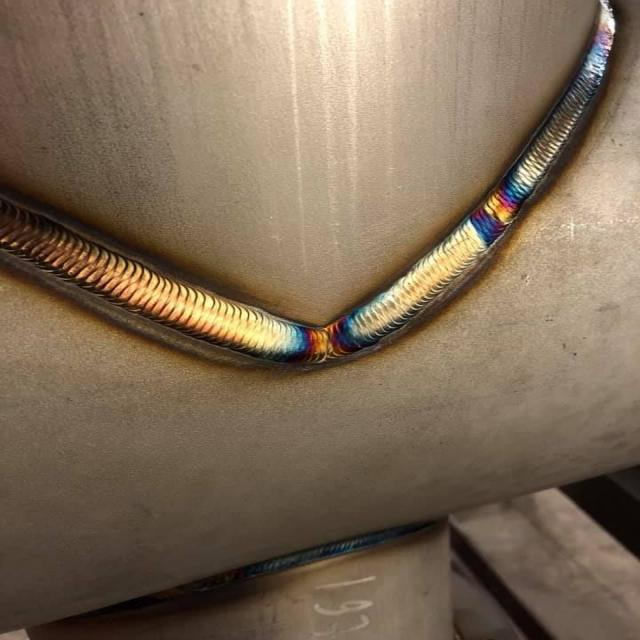Good Welding: (4, 202, 460, 379), (476, 12, 618, 297)
